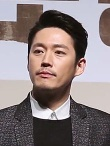male: (23, 7, 95, 106)
